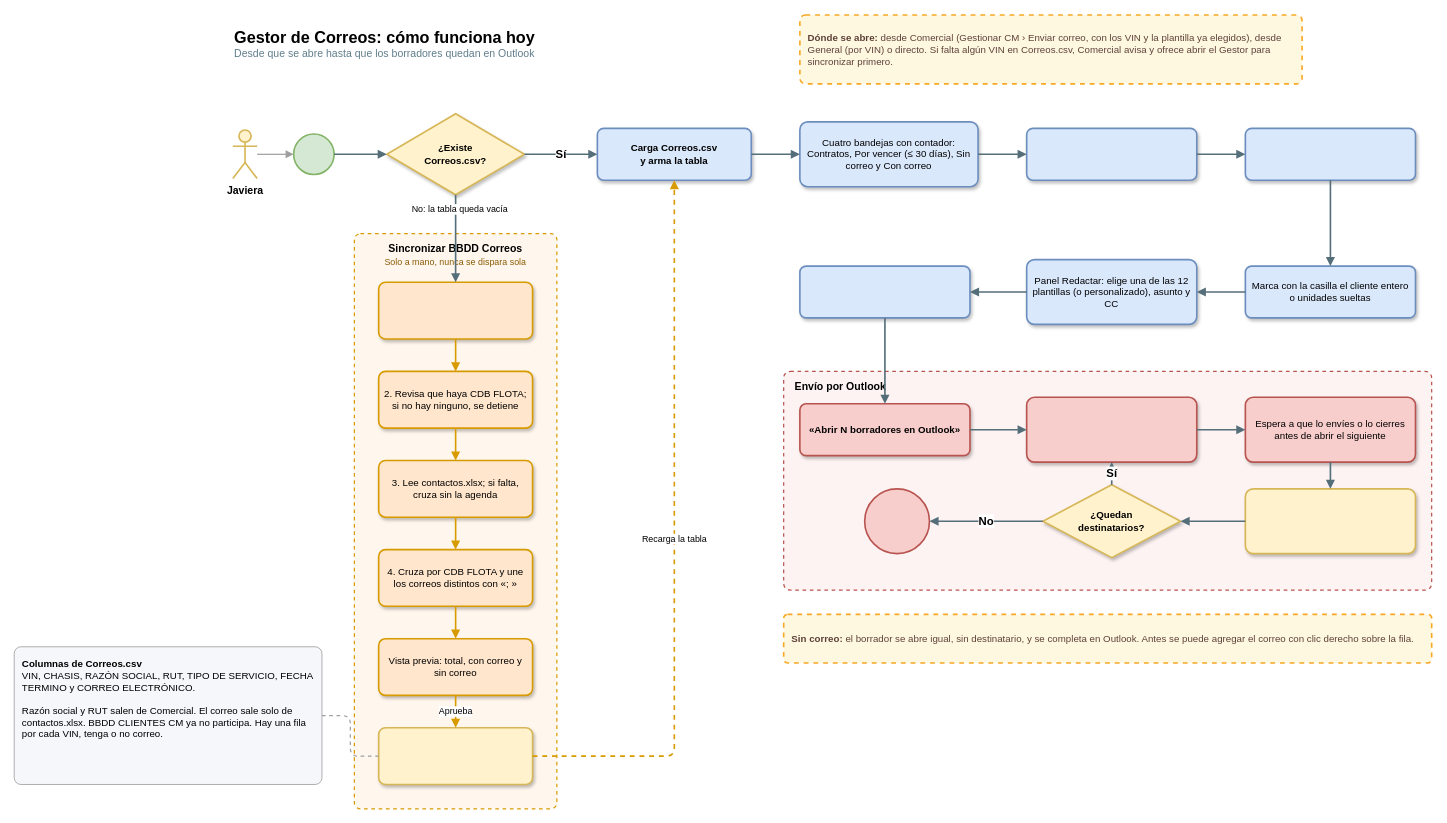
This 1447x823 diagram has some shape labels left out. The shapes that lost their labels are listed below. From the top down, each one's centre as x and y in pixels, then its label:
(x=313, y=154): Abre el Gestor de Correos
(x=1112, y=155): Filtra por plan o busca por razón social, RUT o VIN
(x=1331, y=155): Tabla por cliente; al abrir uno se ven sus unidades
(x=456, y=311): 1. Lee Comercial: el contrato actual de cada VIN
(x=885, y=293): Lista de destinatarios, agrupados por razón social y correo
(x=1112, y=430): Por cada destinatario crea el borrador con la plantilla y lo muestra
(x=896, y=521): FIN
(x=1331, y=522): Anota el resultado en el Registro de envíos: ENVIADO o CERRADO SIN ENVIAR
(x=456, y=757): Guarda Correos.csv, con copia de seguridad previa
